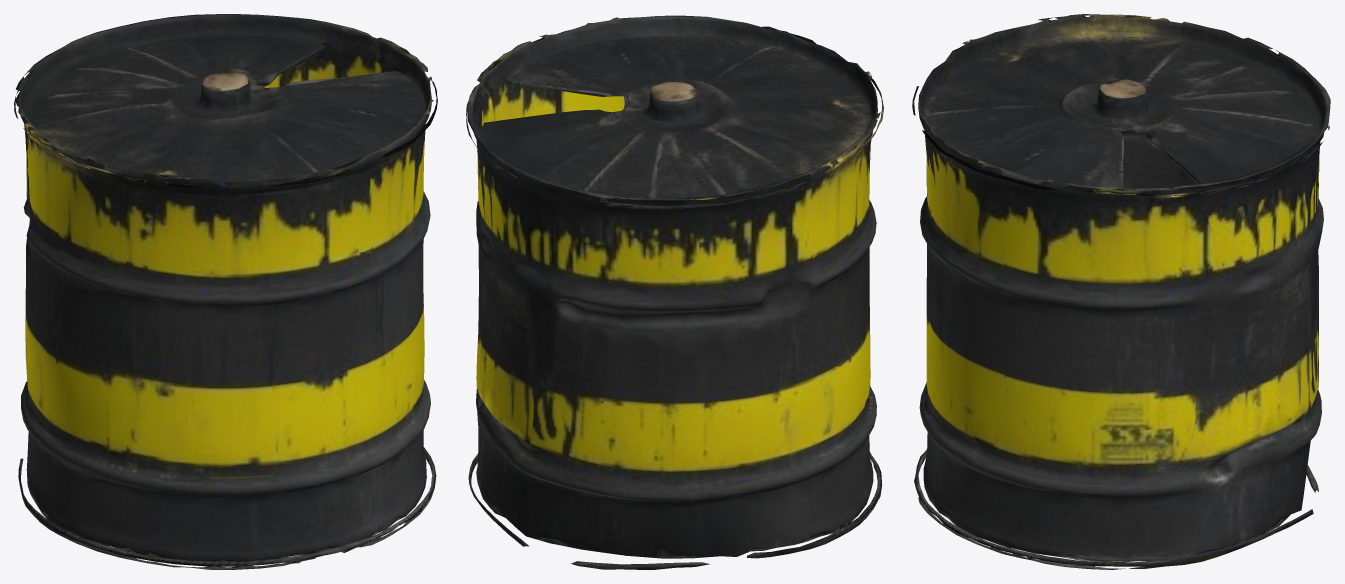
File: rh_oil_drum.glb
3 renders of one model, left to right at view 1: azimuth 30°, elevation 25°; view 2: azimuth 150°, elevation 25°; view 3: azimuth 270°, elevation 25°, orthographic.
Visible parts, largest first — view 1: geometry_0; view 2: geometry_0; view 3: geometry_0.
Boxes of the visible parts, x1,y1,x2,y2 form: geometry_0: (14, 14, 437, 569); geometry_0: (466, 15, 883, 569); geometry_0: (912, 14, 1330, 569).
Size of the model in its own units: 0.9403 by 1 by 0.9424.
1 material, 1 textured.
